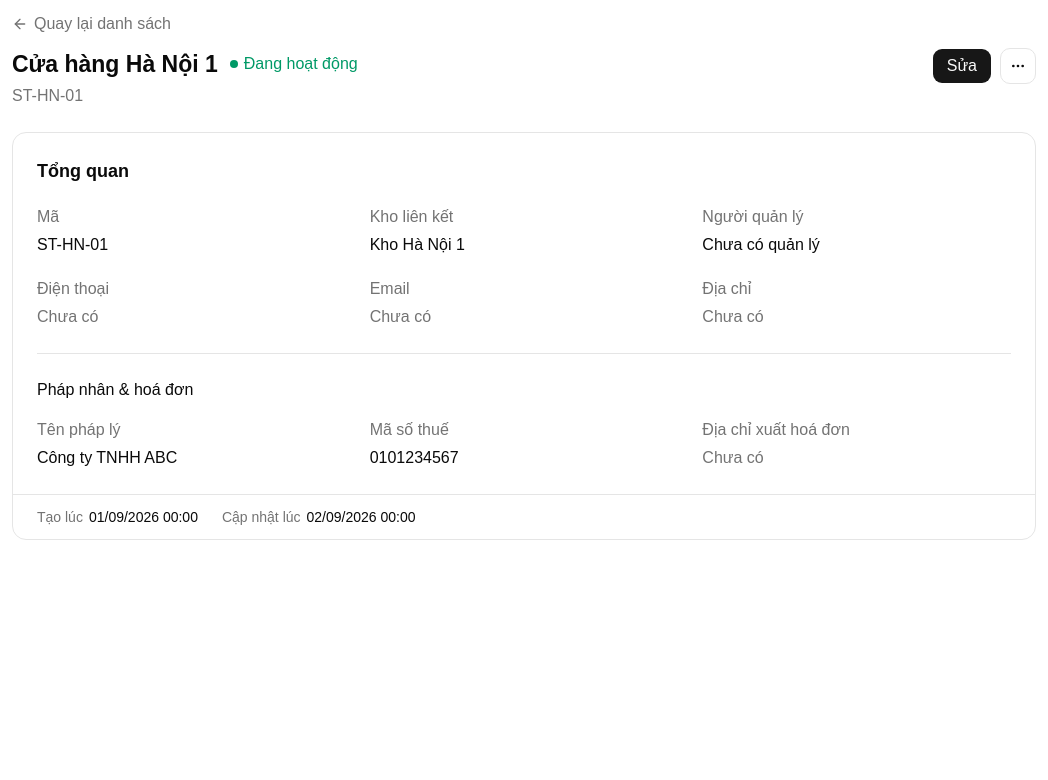
Test case: StoreDetailPage › cửa hàng đang hoạt động → mục Xoá khoá, lý do hiện ngay dưới mục
This screenshot has width=1048, height=780.
Expected: the heading "Cửa hàng Hà Nội 1" is shown, 12,48 -> 218,80
Click the button named "Thao tác khác": coordinates (1018, 66) 1000,48 -> 1036,84
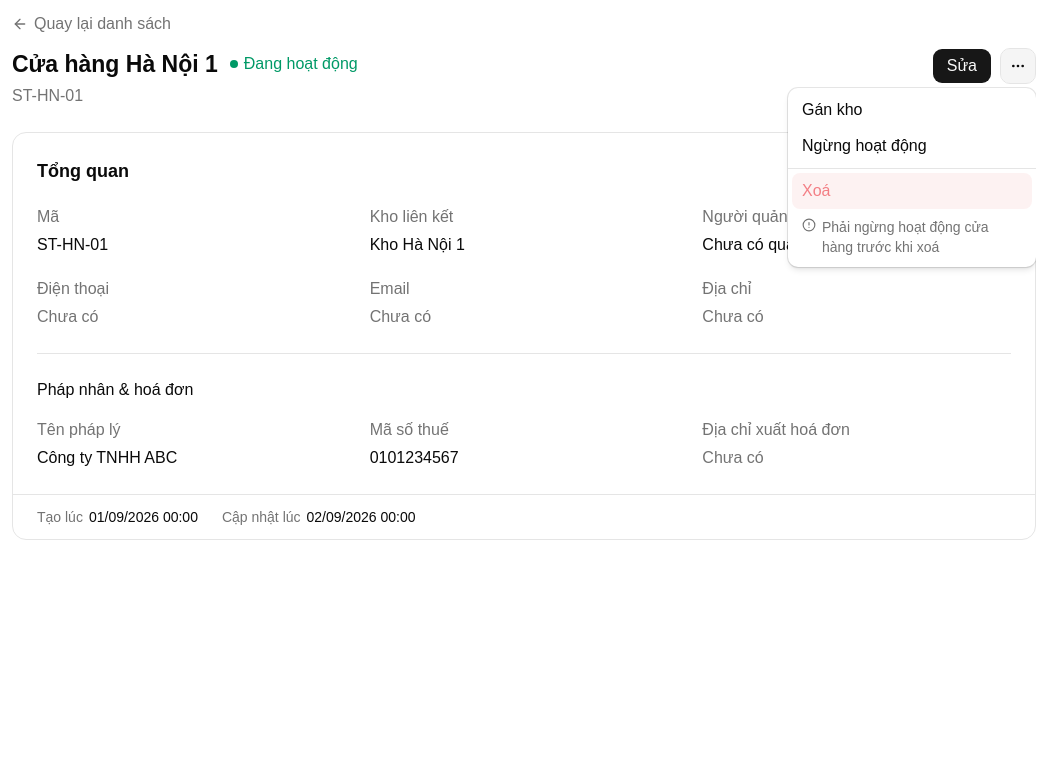
Result: the text "Phải ngừng hoạt động cửa hàng trước khi xoá" is shown at 822,219 -> 989,255
